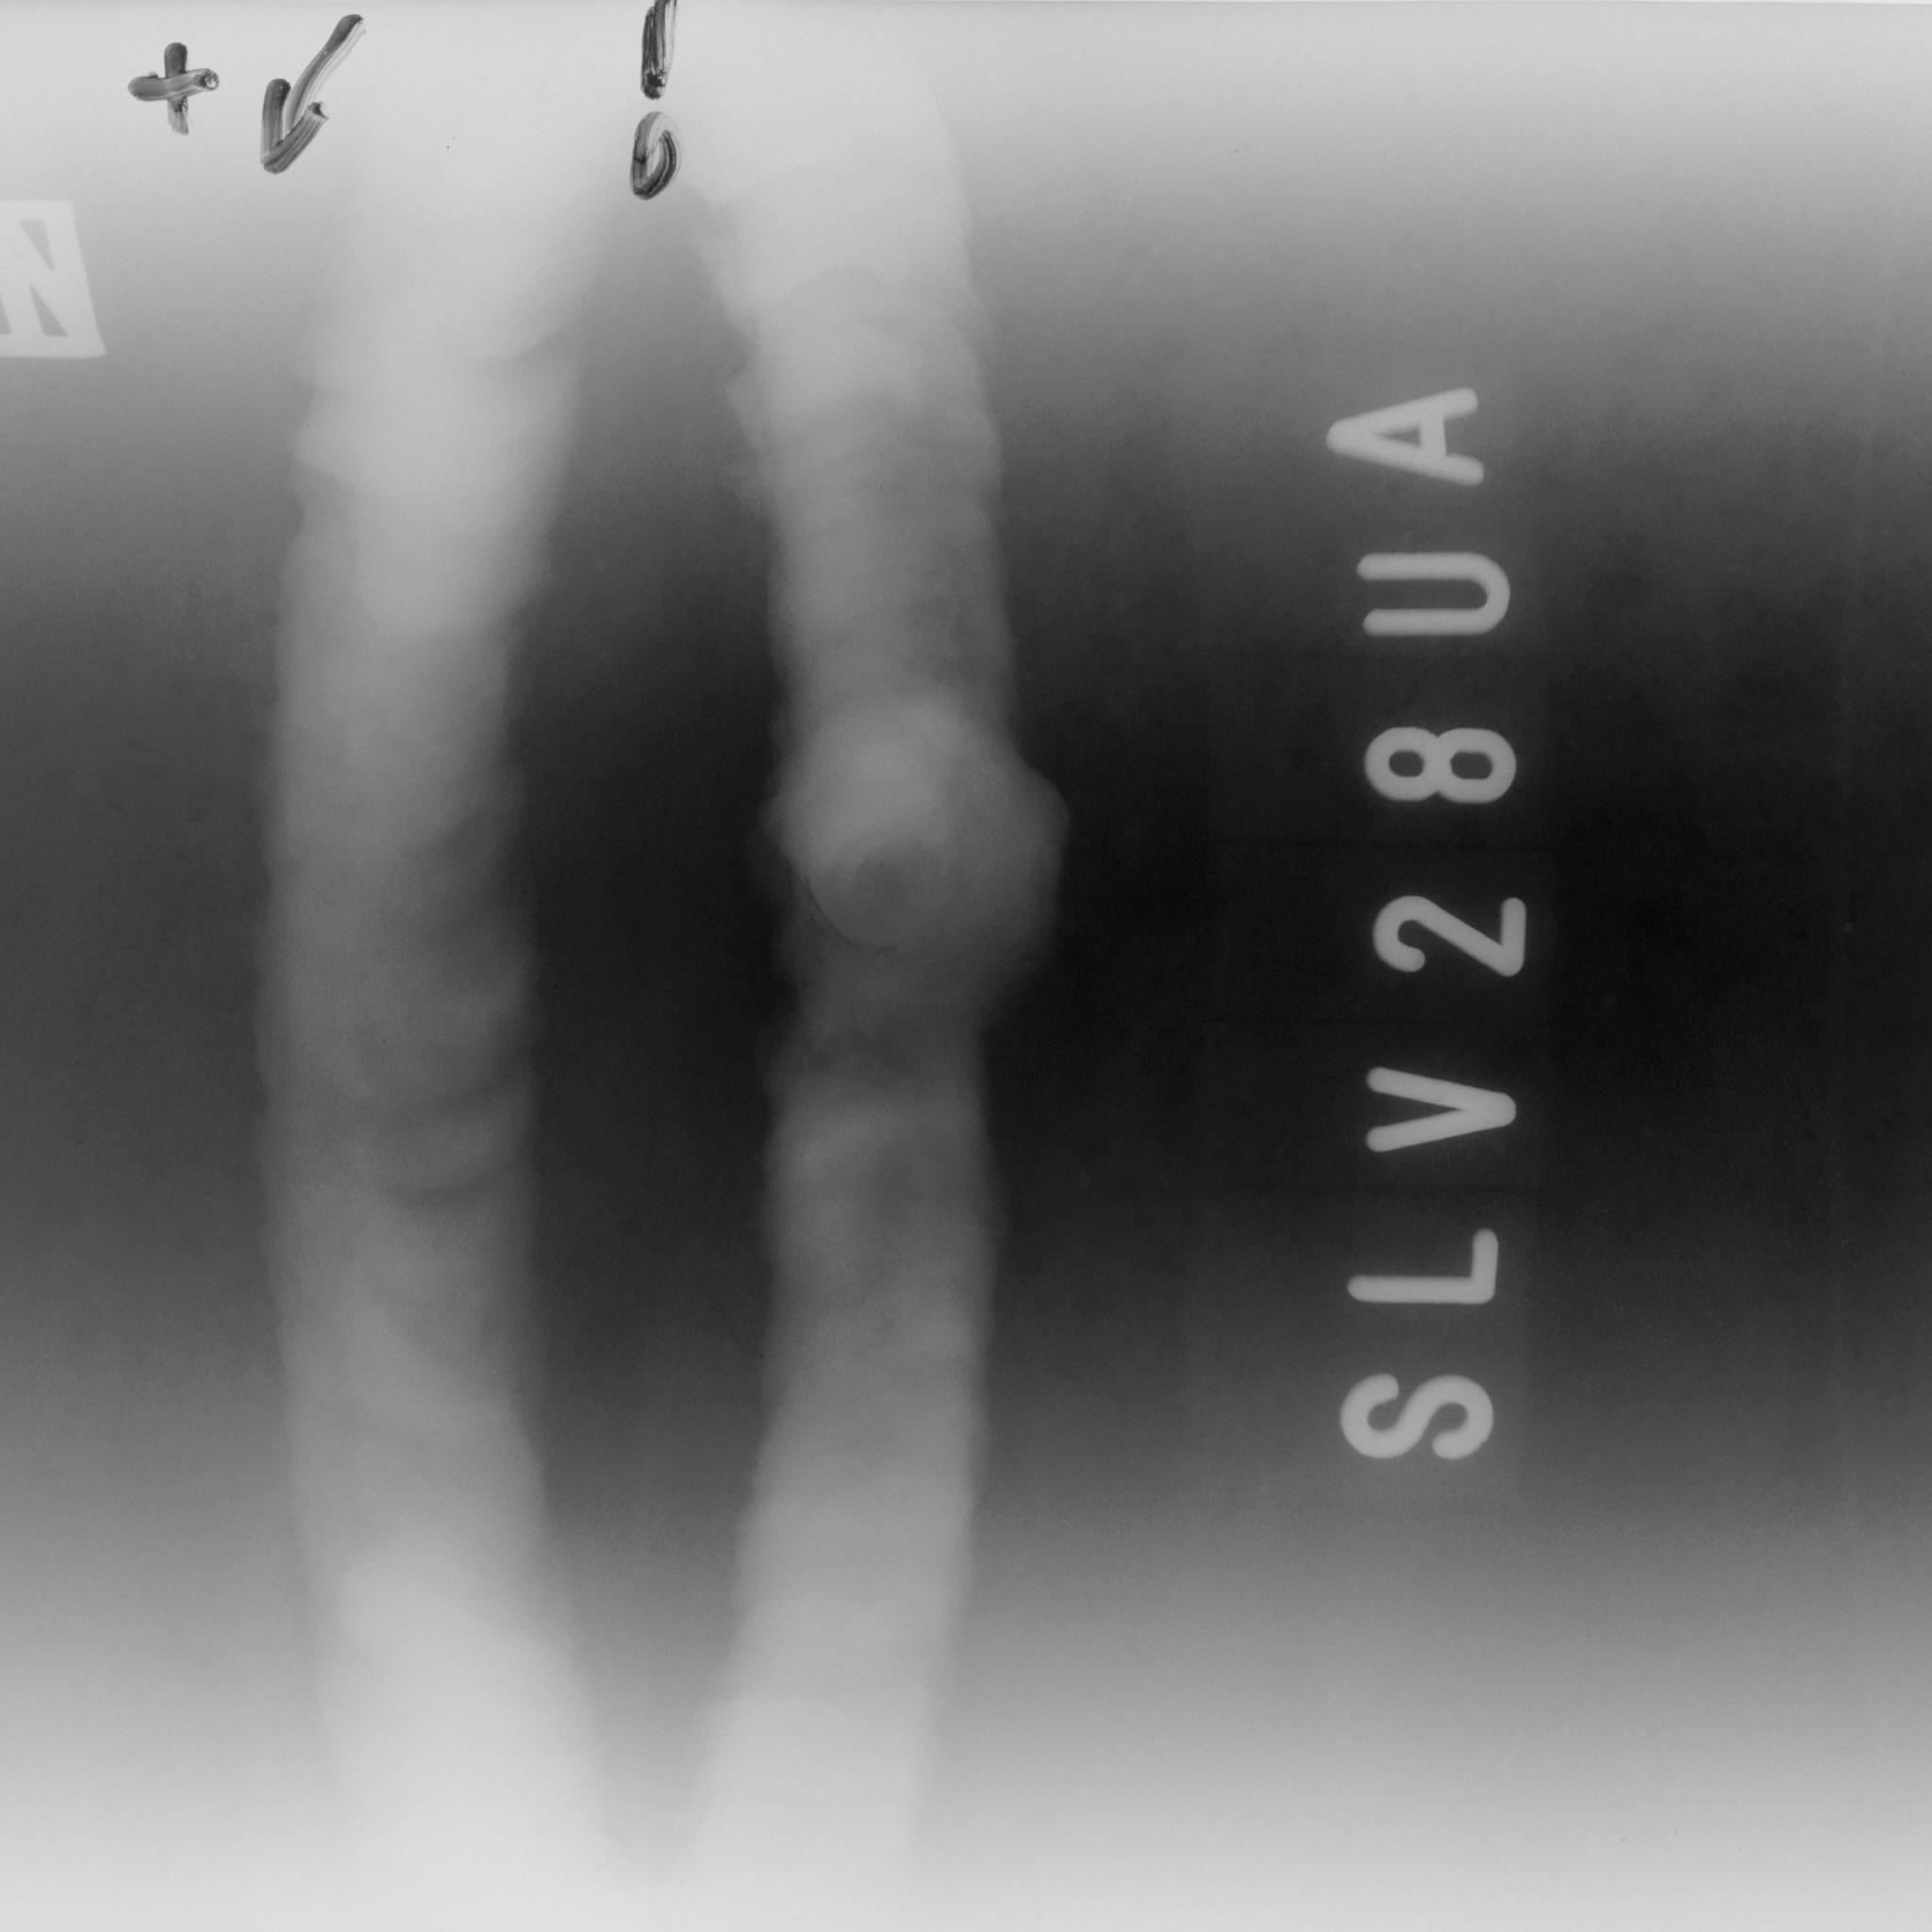PO: (276, 1591, 297, 1610), (377, 1031, 393, 1049), (257, 295, 272, 310), (303, 421, 317, 433), (304, 315, 317, 326), (14, 251, 25, 260), (444, 143, 453, 150), (449, 134, 456, 143), (444, 150, 451, 157)
